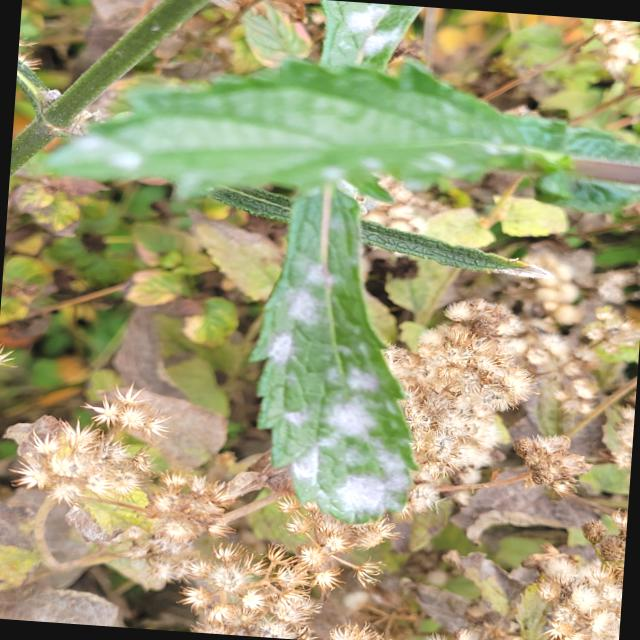powdery_mildew: (254, 189, 412, 522)
